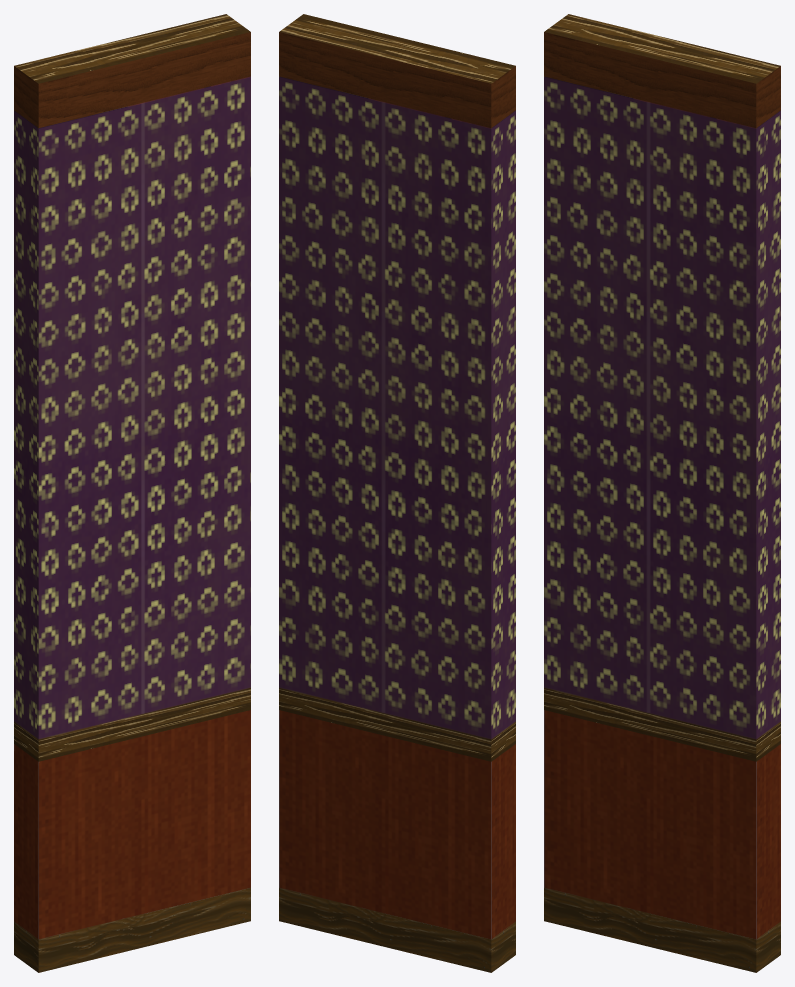
File: SM_Wall_1m_Plaster.fbx
3 views of the same model, side by side, from view 1: azimuth 30°, elevation 25°; view 2: azimuth 150°, elevation 25°; view 3: azimuth 330°, elevation 25° (orthographic).
Parts seen in each view (by area): view 1: SM_Wall_1m_Plaster; view 2: SM_Wall_1m_Plaster; view 3: SM_Wall_1m_Plaster.
Boxes of the visible parts, box(x1,y1,x2,y2) form: SM_Wall_1m_Plaster: box(14, 14, 250, 972); SM_Wall_1m_Plaster: box(279, 14, 515, 972); SM_Wall_1m_Plaster: box(544, 14, 780, 972).
Bounding box in the file's own units: 1 × 4 × 0.2.
